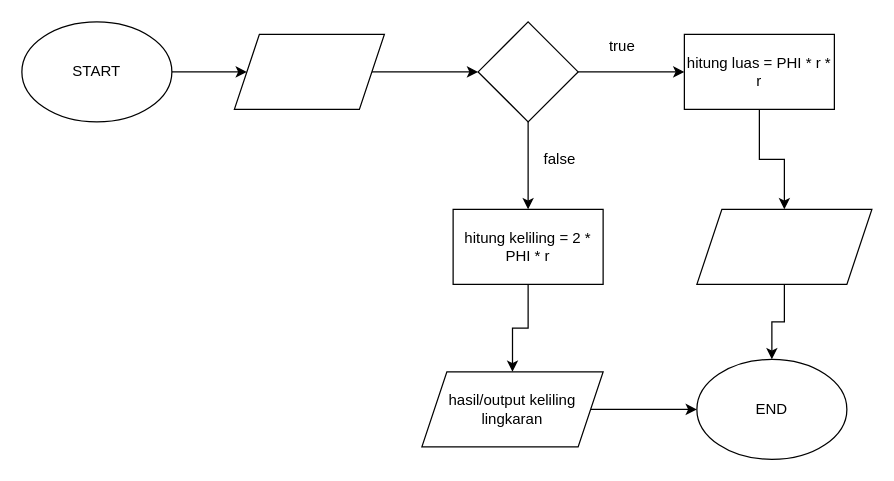
The diagram is 894 pixels wide and 481 high, and some of its shapes have lost their labels. Here are the shapes that lost their labels. From the top down, the centre of each, then its label:
(308,71): input r
(527,71): r ganjil atau genap
(784,246): hasil/output luas lingkaran
